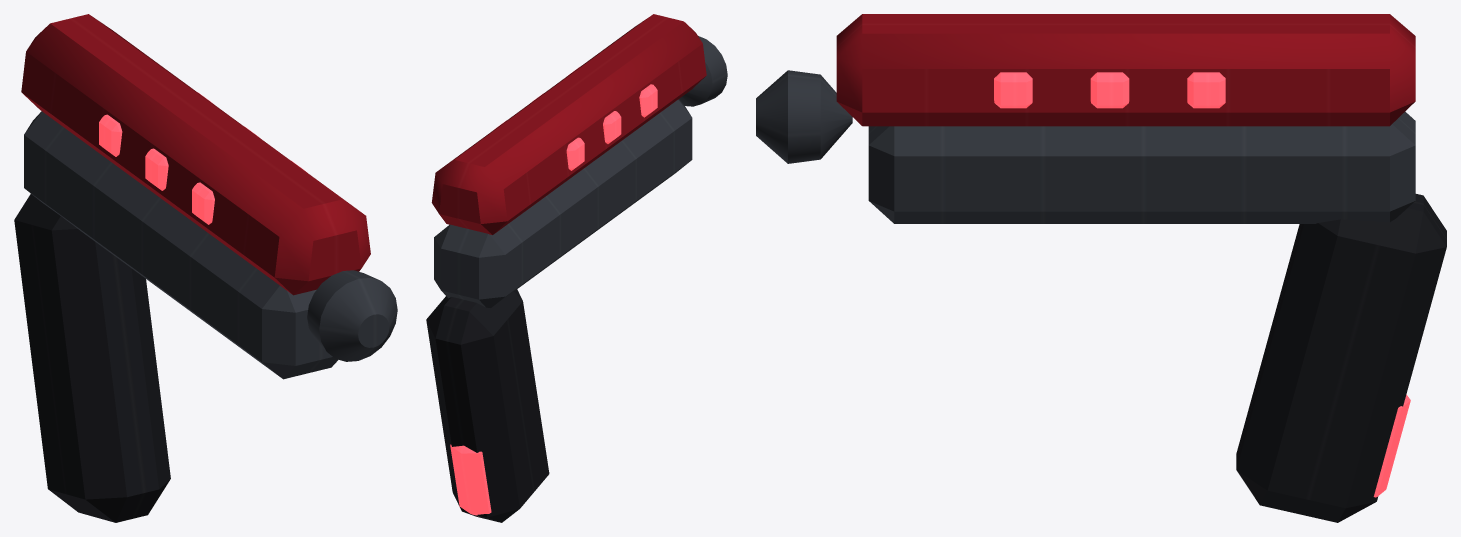
Rendered from gear_phantom_sidearm.glb.
3 renders of one model, left to right at view 1: azimuth 30°, elevation 25°; view 2: azimuth 150°, elevation 25°; view 3: azimuth 270°, elevation 25°, orthographic. The views are drawn at different scales.
Visible parts, largest first — view 1: Sidearm_Shroud, Sidearm_Grip, Sidearm_Frame, Sidearm_Emitter, Sidearm_Vent1, Sidearm_Vent2, Sidearm_Vent0; view 2: Sidearm_Shroud, Sidearm_Grip, Sidearm_Frame, Sidearm_Cell, Sidearm_Emitter, Sidearm_Vent1, Sidearm_Vent0, Sidearm_Vent2; view 3: Sidearm_Shroud, Sidearm_Frame, Sidearm_Grip, Sidearm_Emitter, Sidearm_Vent1, Sidearm_Vent0, Sidearm_Vent2, Sidearm_Cell.
Boxes of the visible parts, x1,y1,x2,y2 form: Sidearm_Shroud: (21,14,370,295); Sidearm_Grip: (14,194,170,522); Sidearm_Frame: (24,111,338,379); Sidearm_Emitter: (307,270,397,361); Sidearm_Vent1: (145,126,258,190); Sidearm_Vent2: (99,92,212,156); Sidearm_Vent0: (192,160,307,224); Sidearm_Shroud: (431,14,706,234); Sidearm_Grip: (426,289,549,522); Sidearm_Frame: (434,99,692,307); Sidearm_Cell: (450,444,491,516); Sidearm_Emitter: (678,36,727,106); Sidearm_Vent1: (532,93,621,143); Sidearm_Vent0: (568,67,657,117); Sidearm_Vent2: (494,120,584,170); Sidearm_Shroud: (836,14,1415,126); Sidearm_Frame: (868,111,1415,223); Sidearm_Grip: (1236,194,1446,522); Sidearm_Emitter: (756,70,852,163); Sidearm_Vent1: (1090,72,1129,108); Sidearm_Vent0: (994,72,1032,108); Sidearm_Vent2: (1187,72,1225,108); Sidearm_Cell: (1373,394,1410,497).
Size of the model in its own units: 0.039 by 0.1684 by 0.2147.
4 materials, 4 textured.
